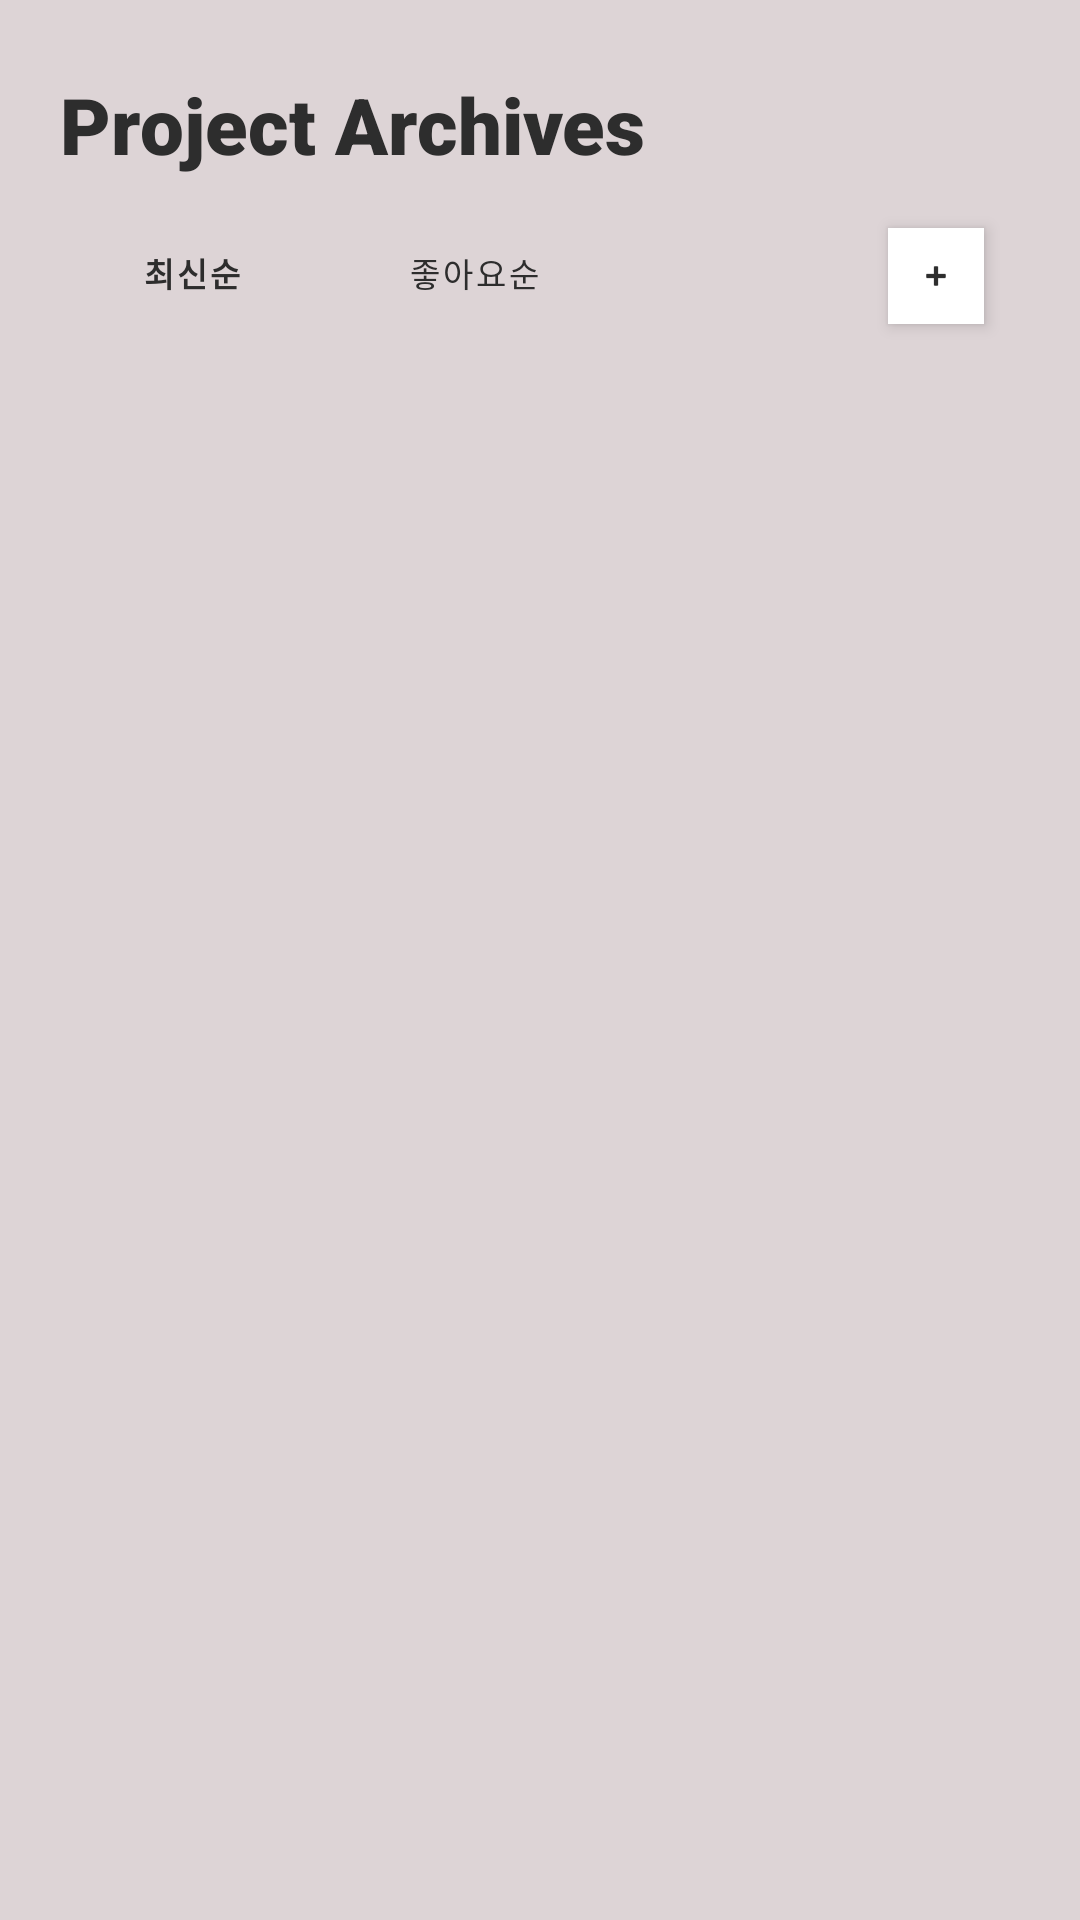

Locate icon controls on the screen. Image size 1080 × 1920, boxes as box(x1, y1, x2, y2).
add: box(888, 228, 984, 324)
